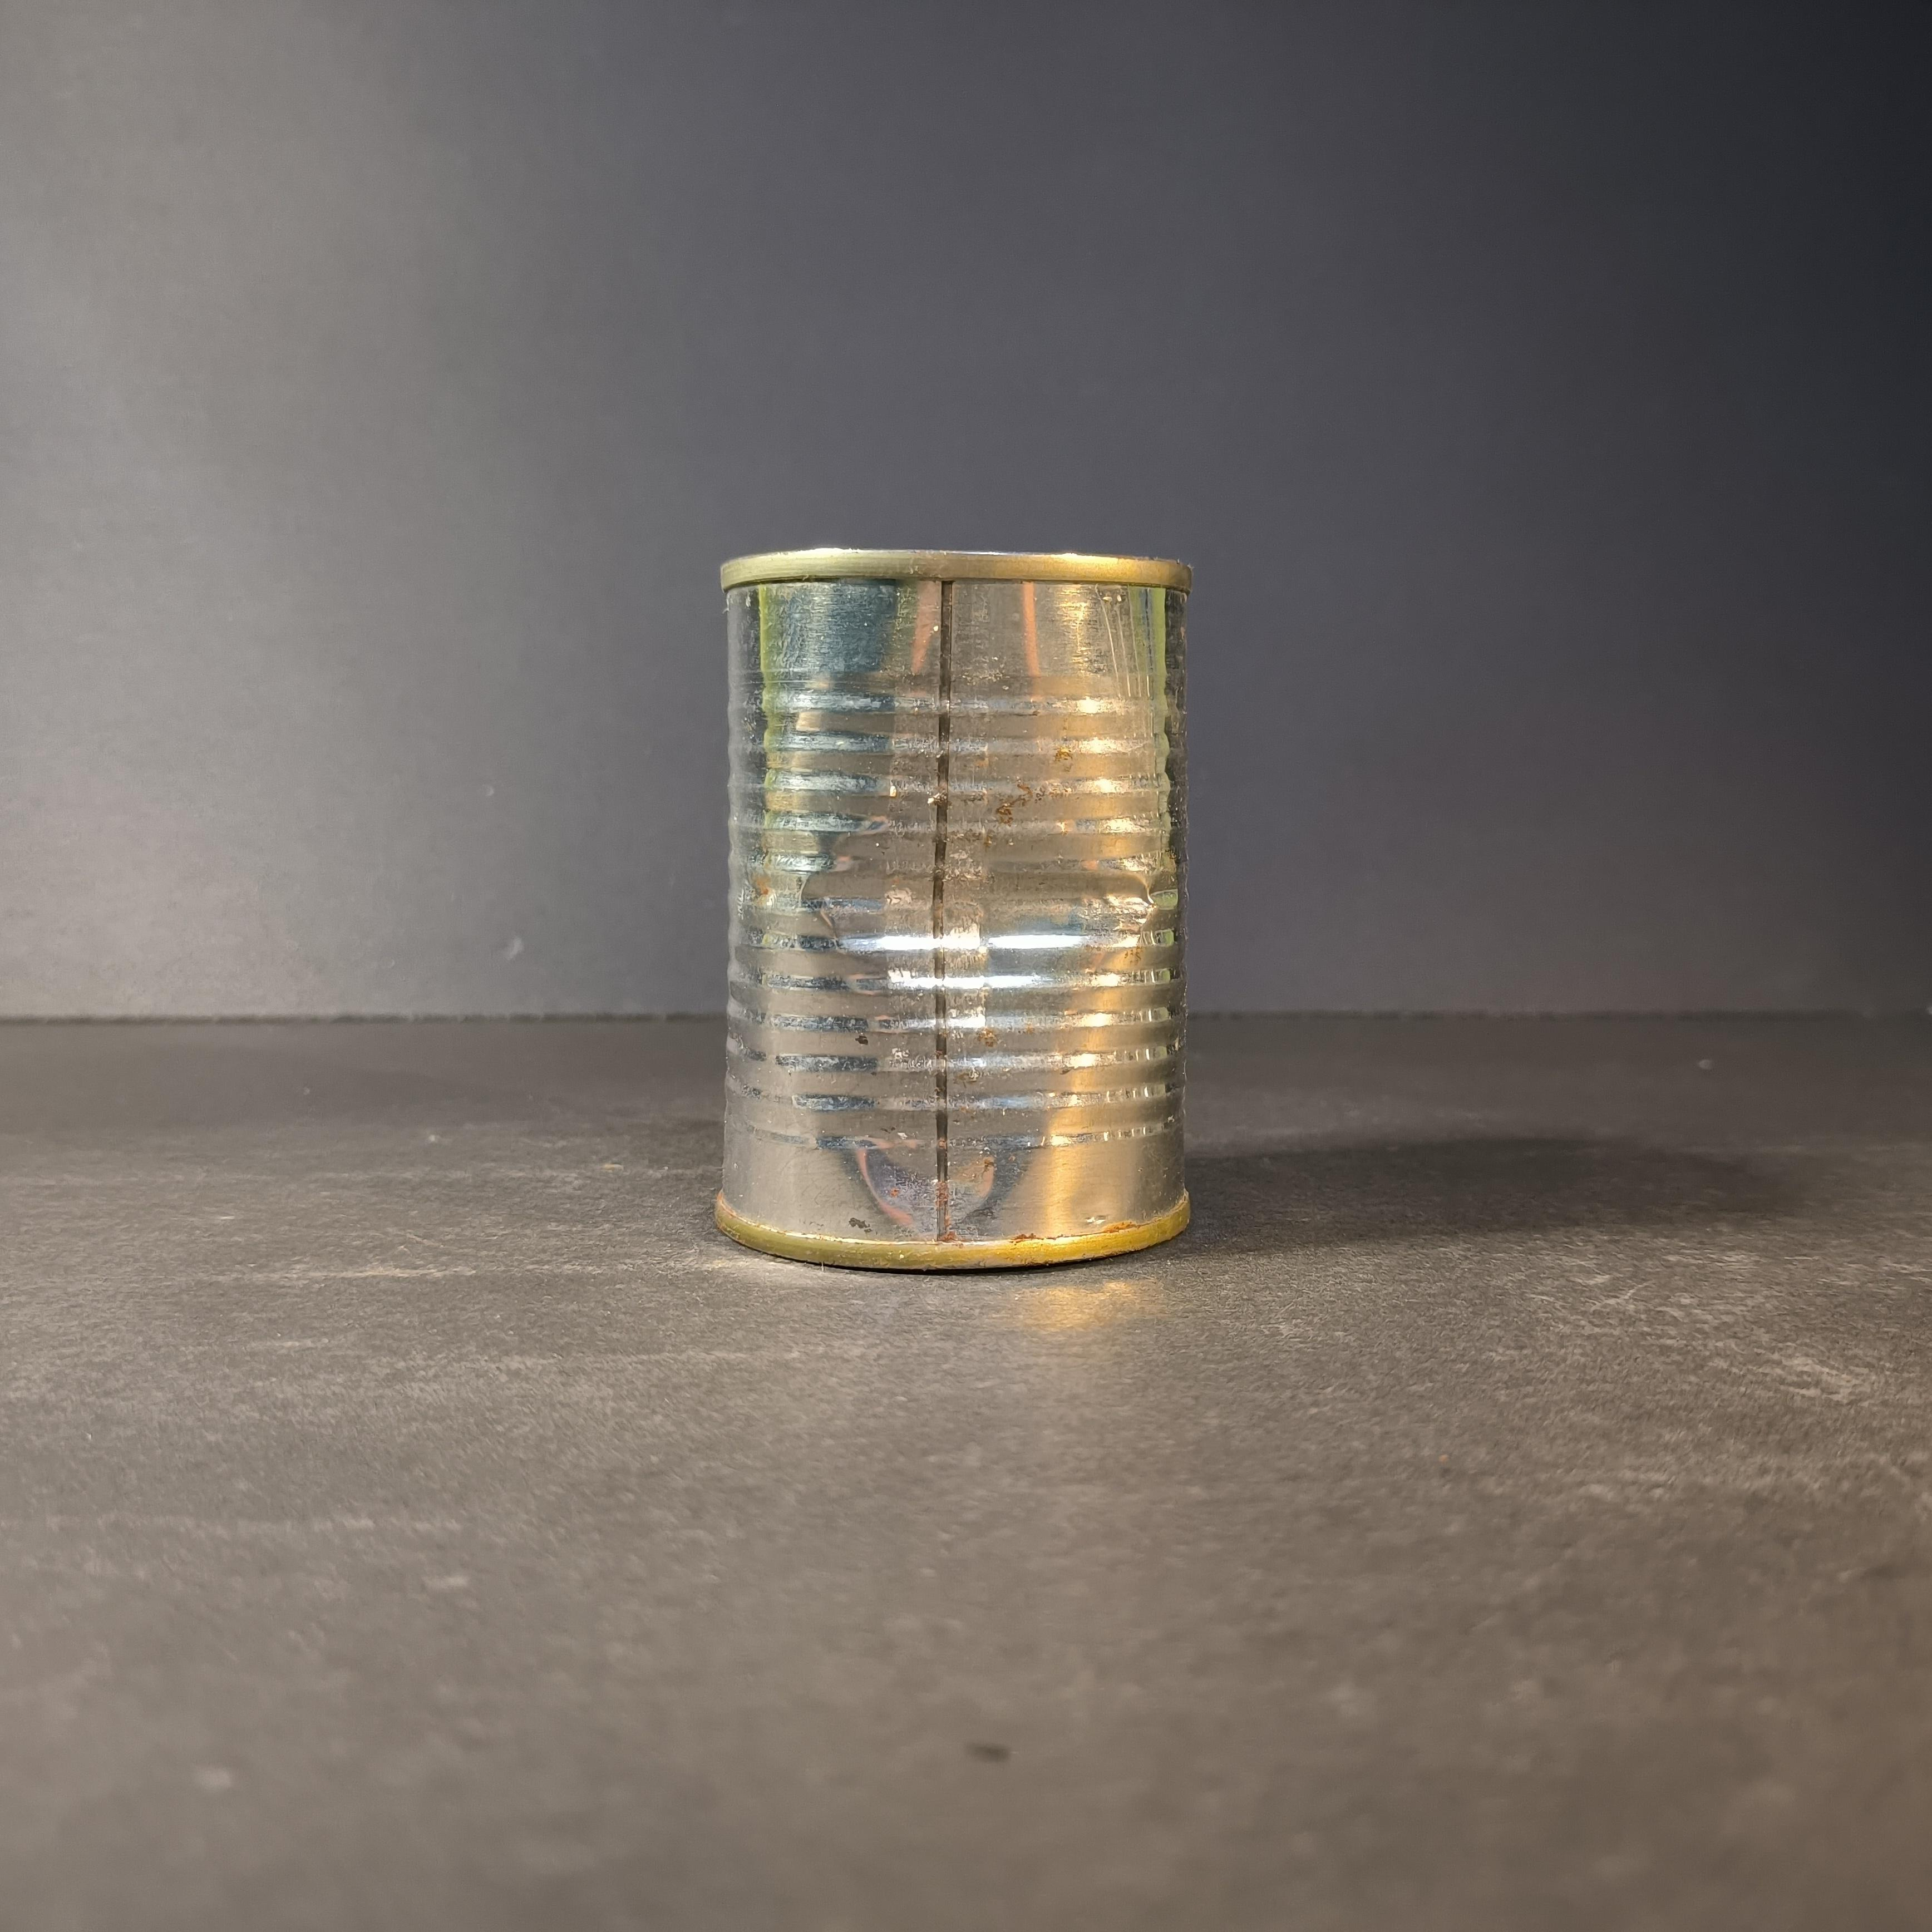Dented: (679, 515, 1207, 1305)
